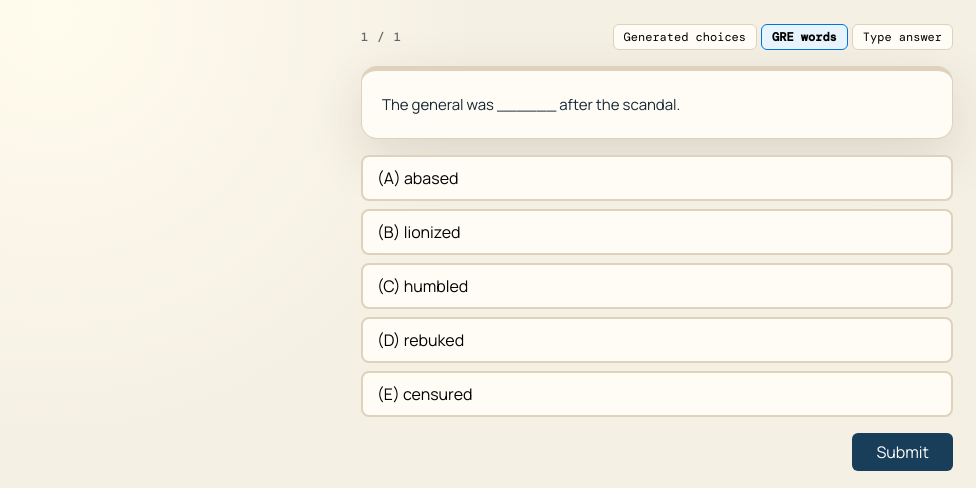
FillInBlank - GRE word distractors › marks the inflected target as the correct answer
Click the button "(A) abased".
click(431, 178)  # box 361,155 -> 953,201
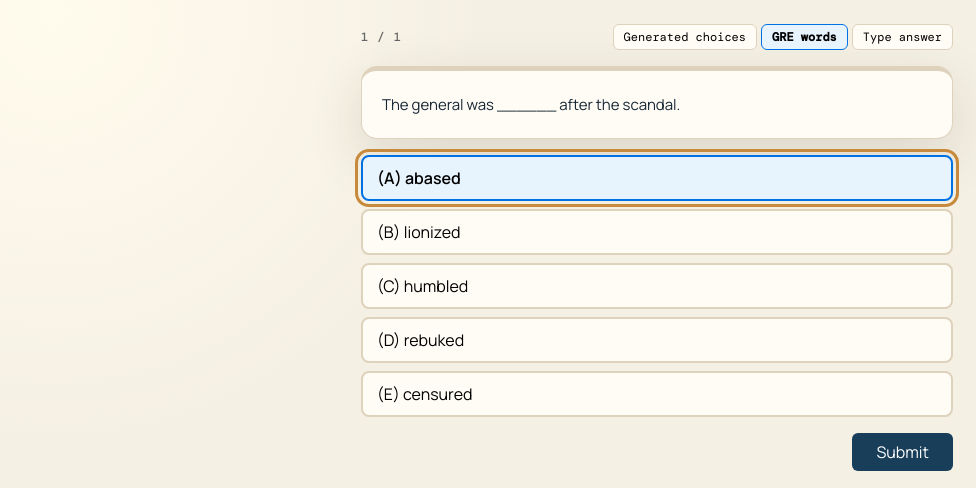
Click the button "Submit".
click(903, 452)  # box 852,433 -> 953,471
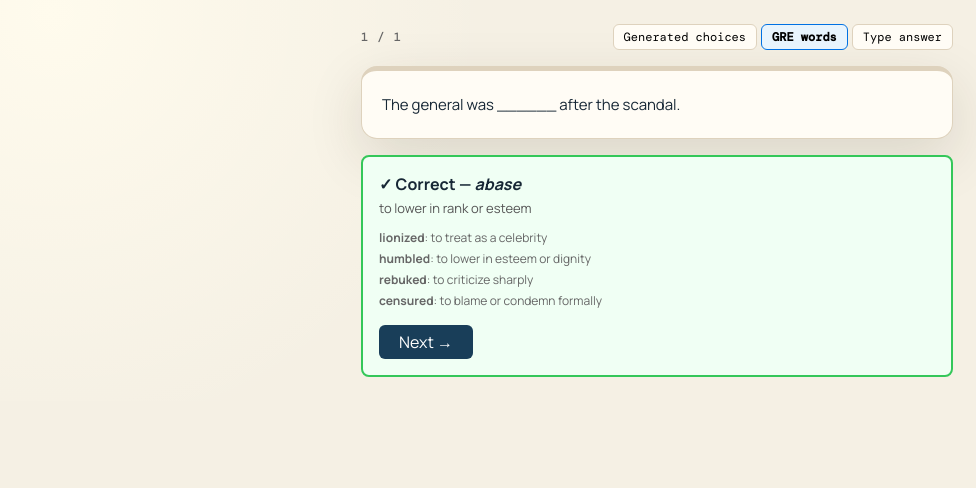
Result: the text "✓ Correct — abase" is shown at 379,173 -> 521,195
